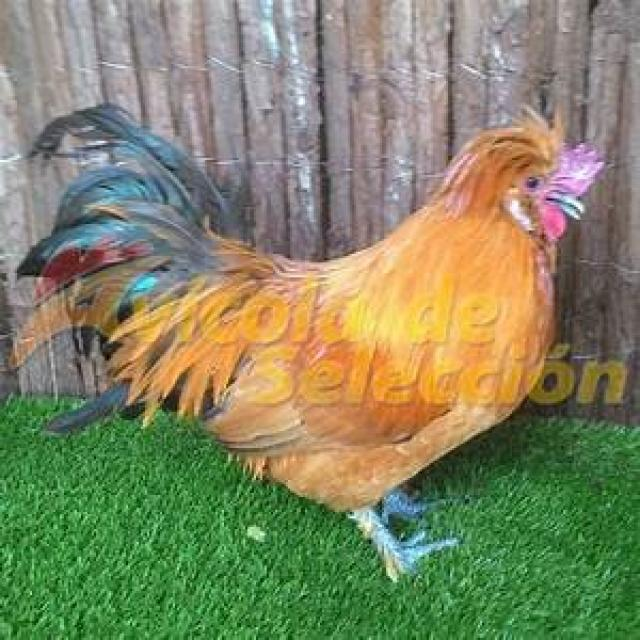hen: (17, 105, 606, 580)
